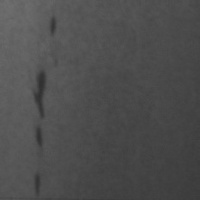inclusion: (29, 68, 51, 120), (30, 123, 47, 150), (43, 14, 61, 38), (32, 170, 44, 197)
